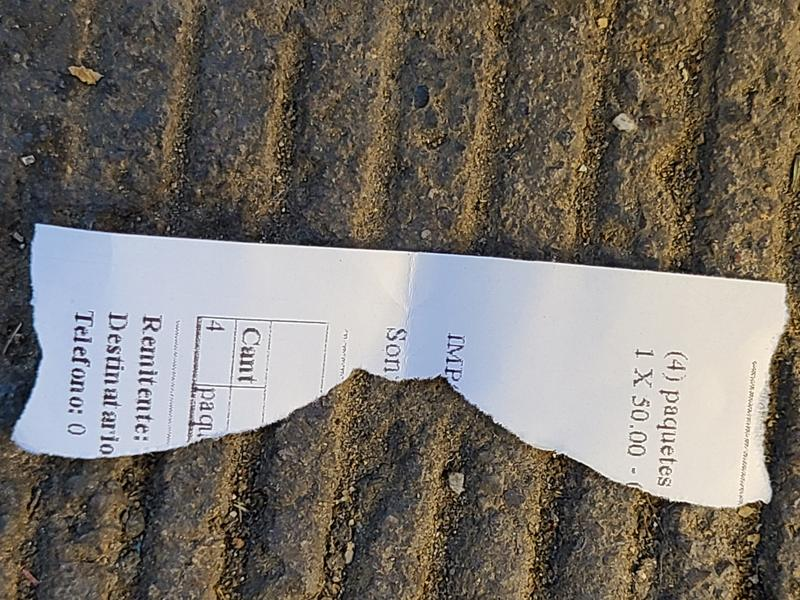papel: (11, 225, 789, 512)
